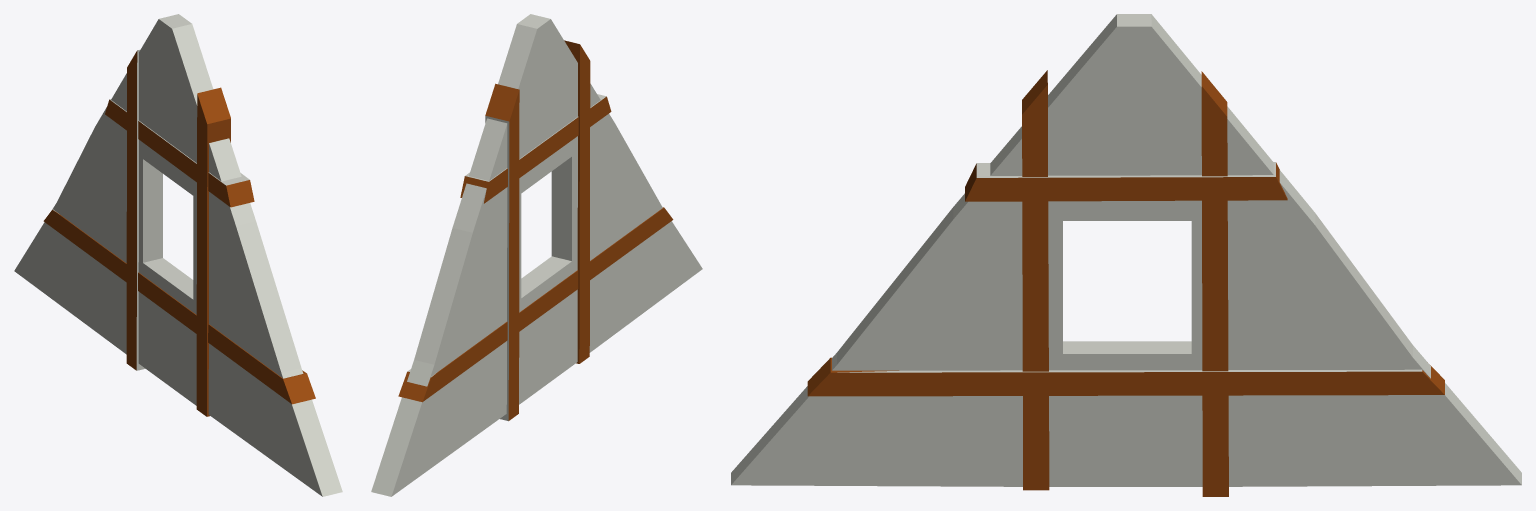
File: NormalRoofWallWindowed1.fbx
3 views of the same model, side by side, from view 1: azimuth 30°, elevation 25°; view 2: azimuth 150°, elevation 25°; view 3: azimuth 270°, elevation 25° (orthographic). The views are drawn at different scales.
Parts seen in each view (by area): view 1: NormalRoofWallWindowed1; view 2: NormalRoofWallWindowed1; view 3: NormalRoofWallWindowed1.
Boxes of the visible parts, left/top/right/bottom form: NormalRoofWallWindowed1: left=14, top=14, right=342, bottom=496; NormalRoofWallWindowed1: left=371, top=14, right=702, bottom=496; NormalRoofWallWindowed1: left=731, top=14, right=1521, bottom=496.
Bounding box in the file's own units: 93.62 × 1304 × 1993.
